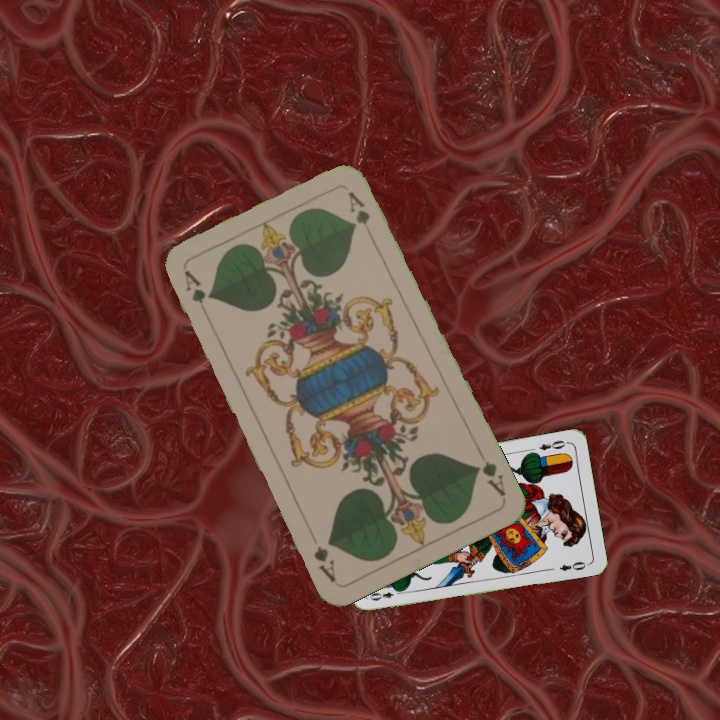EO: (365, 585, 405, 603), (535, 436, 568, 453)
GA: (470, 445, 508, 499), (180, 266, 212, 322)
